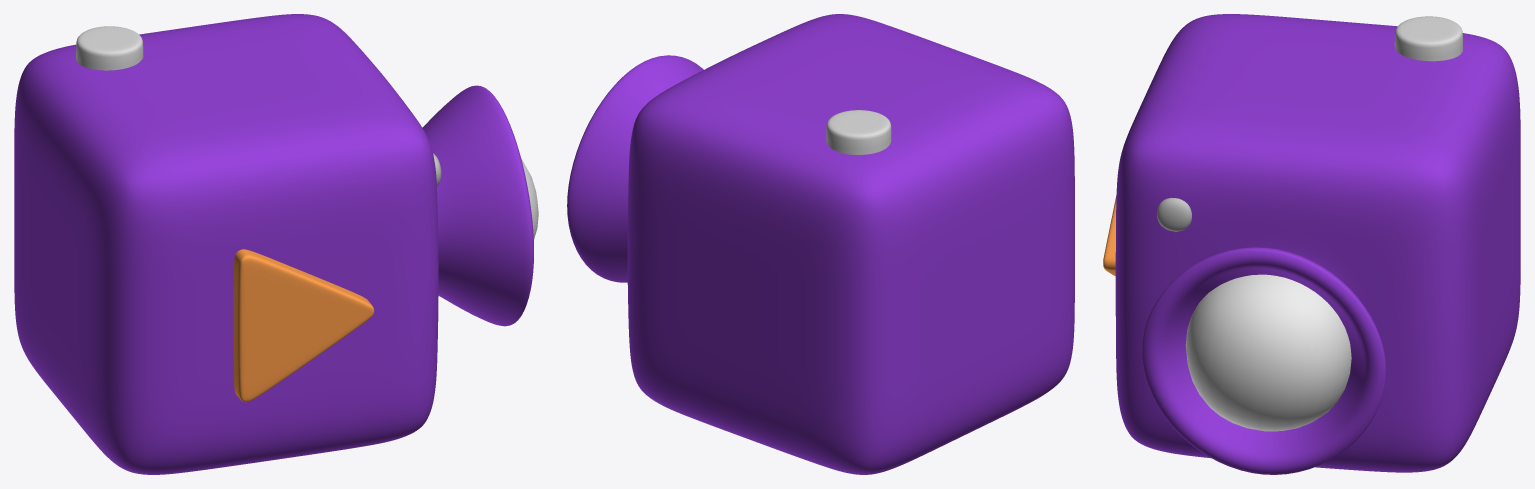
File: video-cam.fbx
3 renders of one model, left to right at view 1: azimuth 30°, elevation 25°; view 2: azimuth 150°, elevation 25°; view 3: azimuth 270°, elevation 25°, orthographic. The views are drawn at different scales.
Parts seen in each view (by area): view 1: Cube.020; view 2: Cube.020; view 3: Cube.020.
Part boxes in pixels (box(x1,y1,x2,y2)): Cube.020: box(14, 14, 538, 474); Cube.020: box(567, 14, 1074, 474); Cube.020: box(1103, 14, 1520, 474).
Size of the model in its own units: 197 by 144 by 155.
